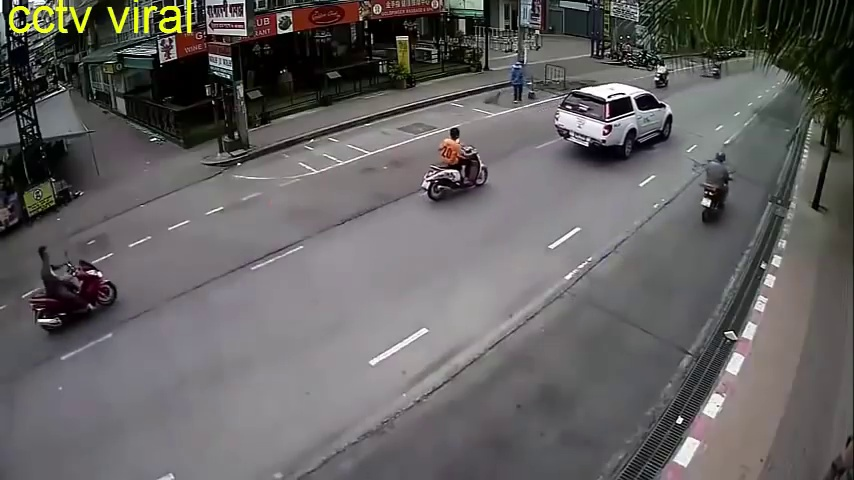car: (554, 85, 673, 159)
motorbike: (30, 243, 115, 329), (423, 129, 489, 202), (702, 153, 730, 225)
